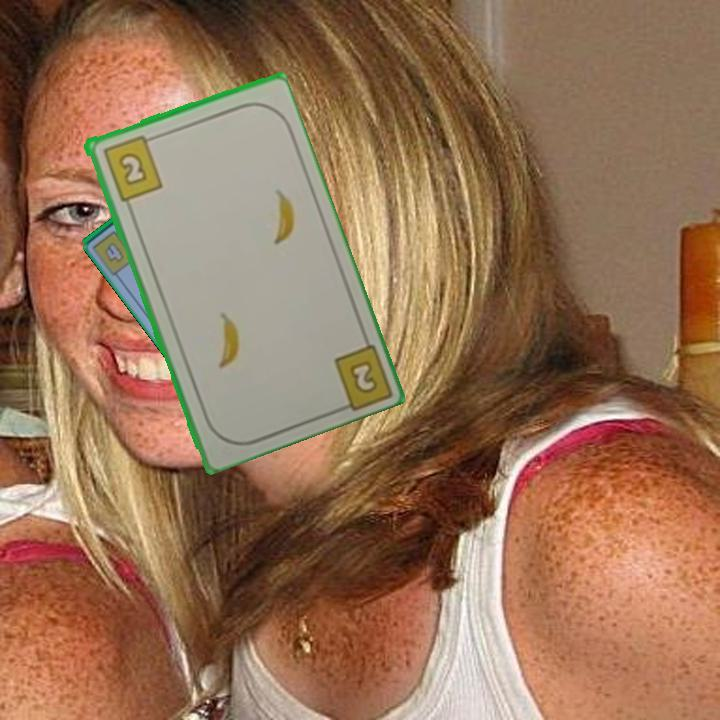2b: (99, 131, 165, 204), (345, 356, 381, 397)
4b: (101, 238, 128, 266)
